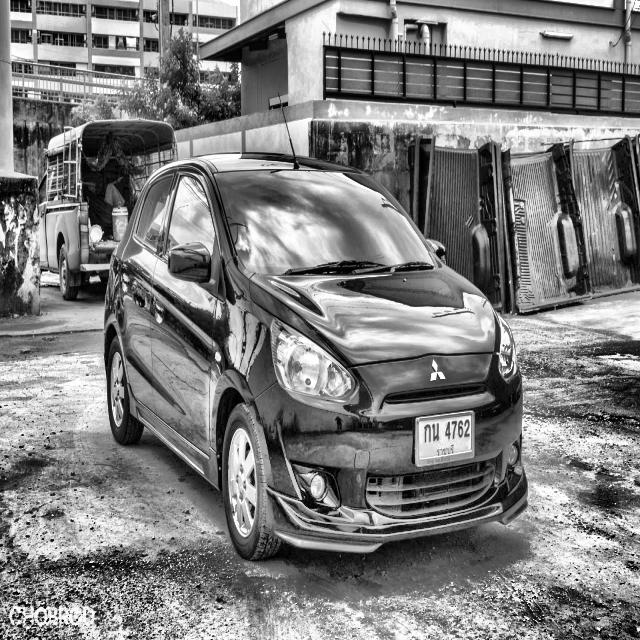license-plate: (414, 410, 477, 468)
